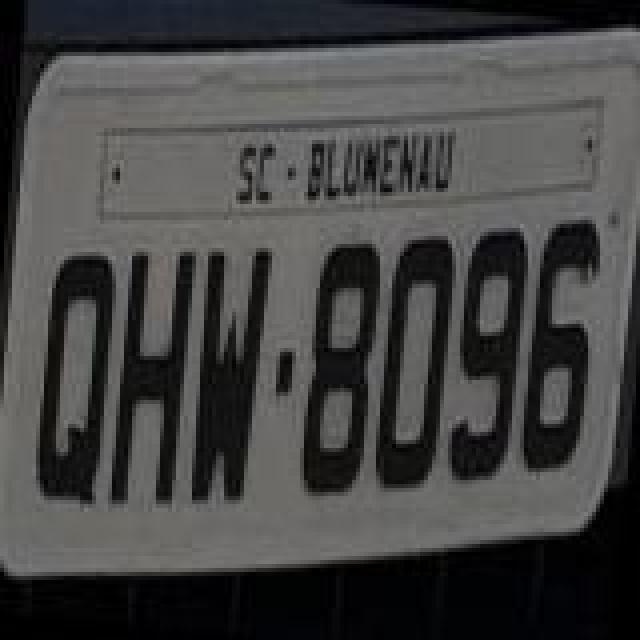6: (514, 216, 606, 488)
8: (298, 236, 390, 500)
9: (442, 216, 534, 488)
H: (106, 244, 198, 516)
O: (370, 232, 462, 504)
Q: (30, 248, 122, 512)
W: (182, 240, 274, 512)
